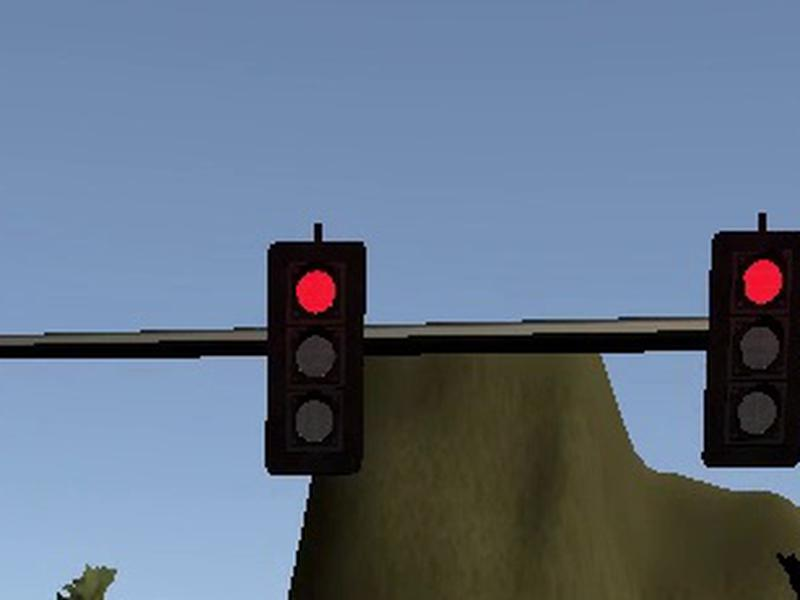Red: (263, 241, 367, 476), (700, 230, 800, 467)
